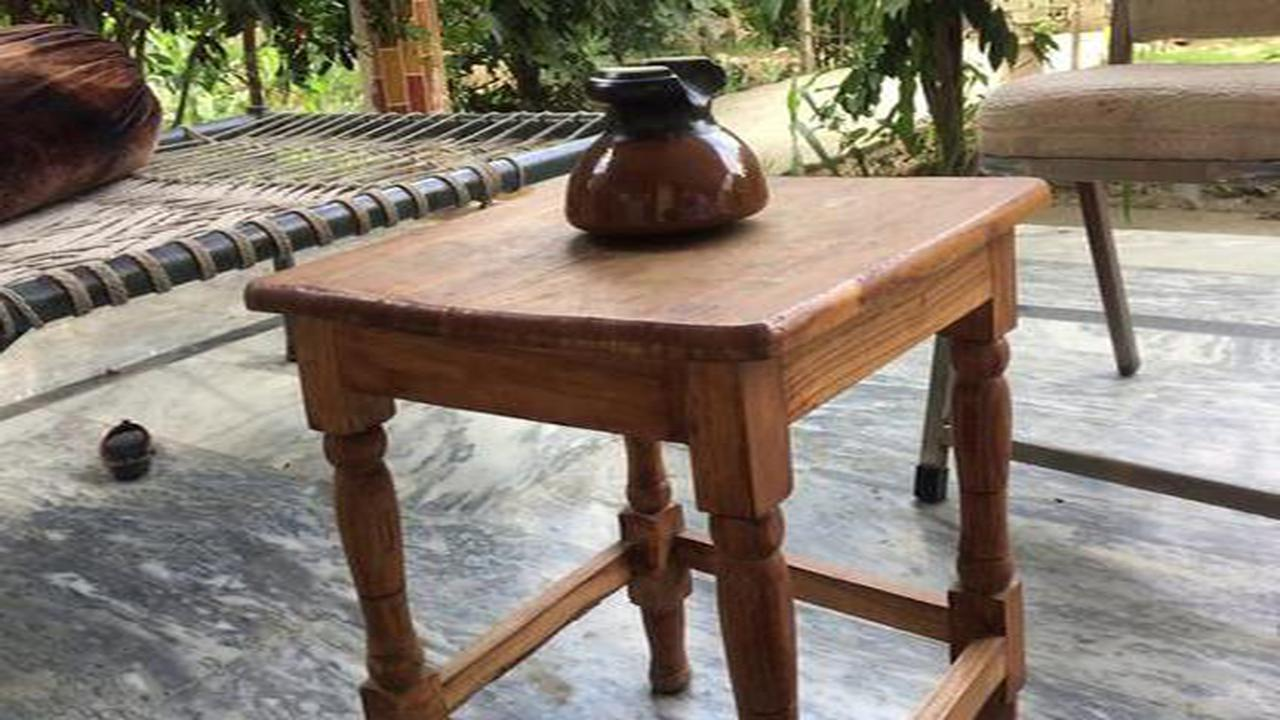insulator_pin: (545, 51, 791, 250)
